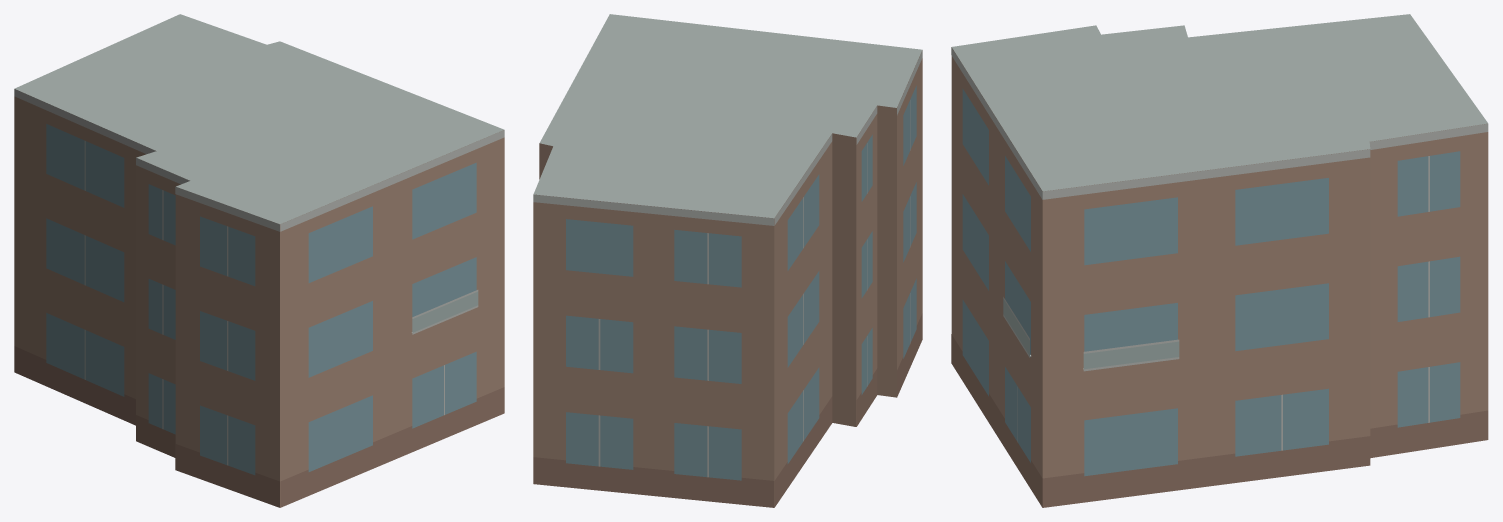
File: survey-upis-32650490.glb
The picture shows the model from 3 angles, left to right: view 1: azimuth 30°, elevation 25°; view 2: azimuth 150°, elevation 25°; view 3: azimuth 270°, elevation 25°; orthographic projection. The views are drawn at different scales.
Parts seen in each view (by area): view 1: survey-upis-32650490.tmp; view 2: survey-upis-32650490.tmp; view 3: survey-upis-32650490.tmp.
Part boxes in pixels (box(x1,y1,x2,y2)): survey-upis-32650490.tmp: box(14, 14, 504, 507); survey-upis-32650490.tmp: box(533, 14, 922, 507); survey-upis-32650490.tmp: box(951, 14, 1488, 507).
Bounding box in the file's own units: 11.01 × 9.15 × 14.08.
